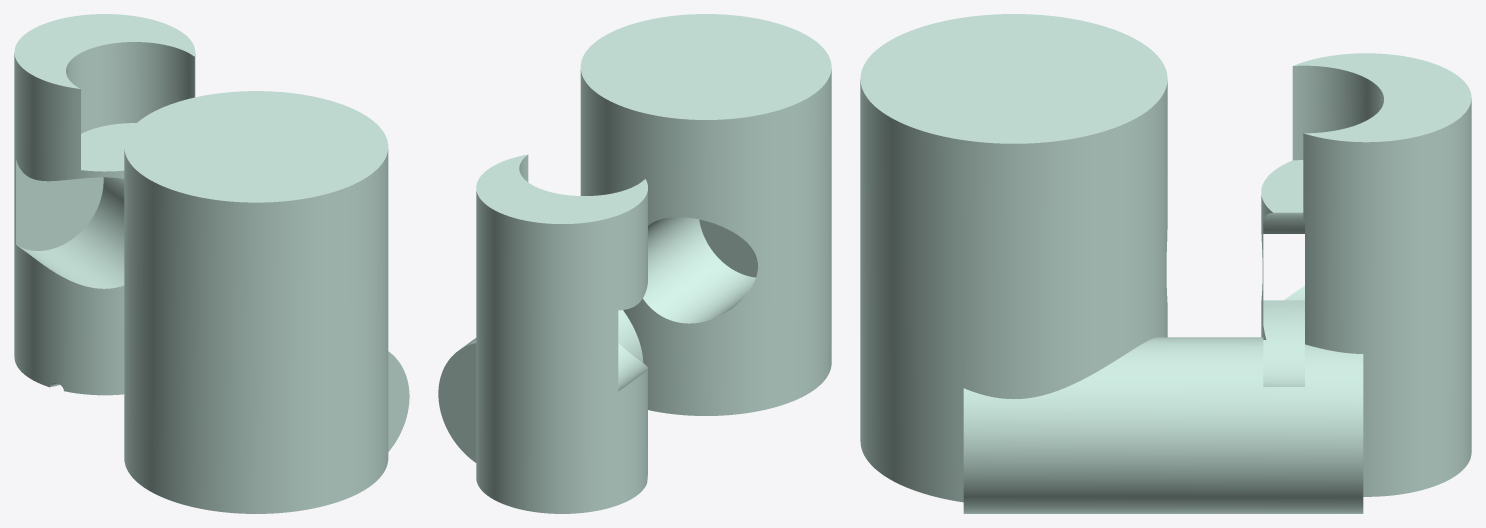
3 views of the same model, side by side, from view 1: azimuth 30°, elevation 25°; view 2: azimuth 150°, elevation 25°; view 3: azimuth 270°, elevation 25° (orthographic). The views are drawn at different scales.
Visible parts, largest first — view 1: Renderer Node; view 2: Renderer Node; view 3: Renderer Node.
Boxes of the visible parts, box(x1,y1,x2,y2) form: Renderer Node: box(14, 14, 409, 513); Renderer Node: box(438, 14, 831, 513); Renderer Node: box(860, 14, 1471, 513).
Bounding box in the file's own units: 0.6196 × 0.8064 × 1.15.
